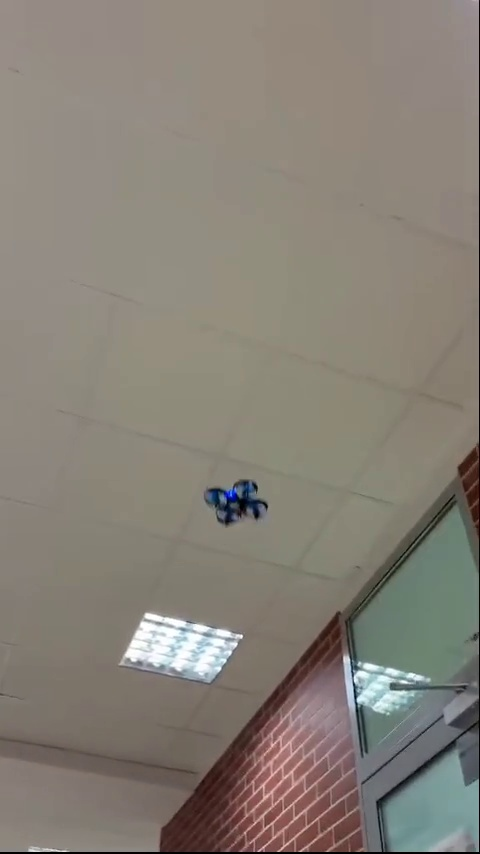drone: (204, 478, 267, 523)
